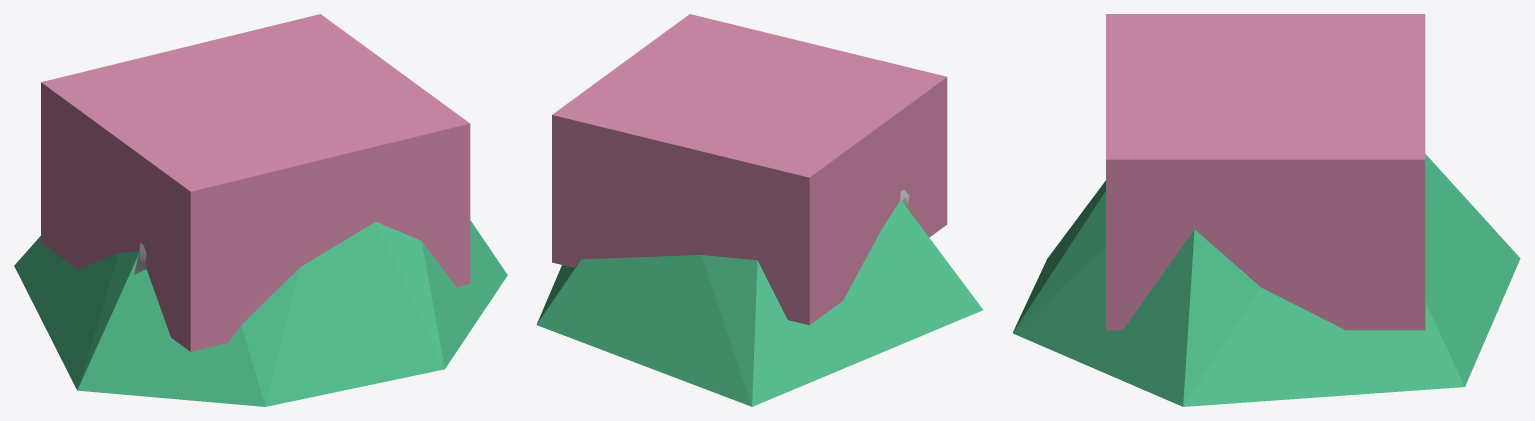
Rendered from rock_01_a_small_b.dae.
The picture shows the model from 3 angles, left to right: view 1: azimuth 30°, elevation 25°; view 2: azimuth 150°, elevation 25°; view 3: azimuth 270°, elevation 25°; orthographic projection. The views are drawn at different scales.
Visible parts, largest first — view 1: Untitled, Colmesh-1; view 2: Untitled, Colmesh-1; view 3: Untitled, Colmesh-1.
Part boxes in pixels (<box>): Untitled: <box>41,14,470,351</box>; Colmesh-1: <box>14,220,507,406</box>; Untitled: <box>552,14,947,325</box>; Colmesh-1: <box>536,201,982,406</box>; Untitled: <box>1106,14,1425,330</box>; Colmesh-1: <box>1013,154,1520,406</box>.
Size of the model in its own units: 0.6255 by 0.6006 by 0.3069.
